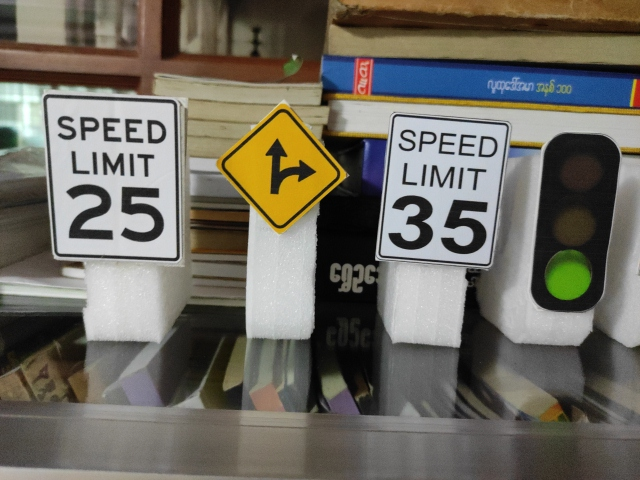Green Traffic Light: (529, 131, 621, 313)
Speed Limit 25: (42, 91, 185, 265)
Speed Limit 35: (374, 112, 511, 268)
Straight Or Right Sign: (220, 107, 346, 232)
